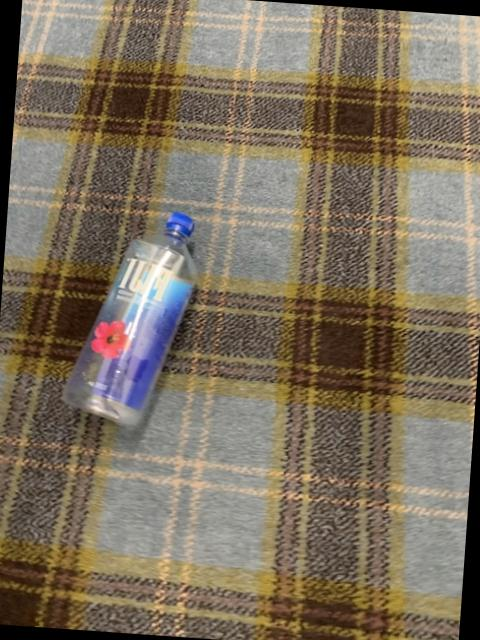plastic: (65, 211, 197, 423)
